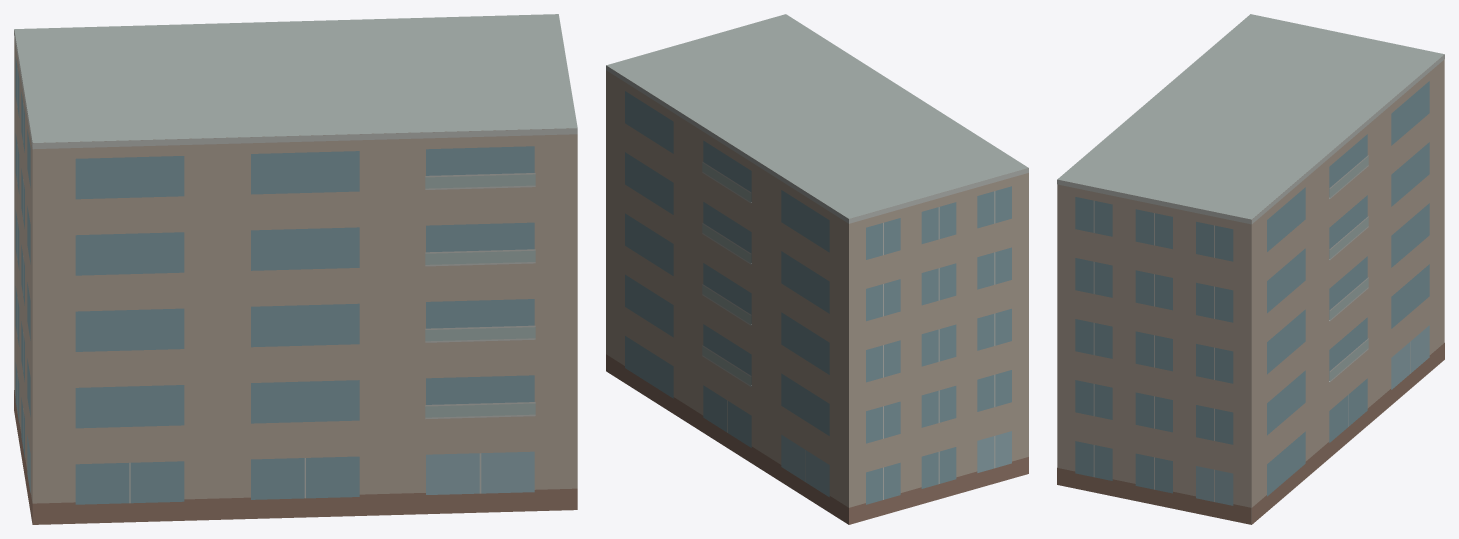
Rendered from survey-upis-32998926.glb.
3 renders of one model, left to right at view 1: azimuth 30°, elevation 25°; view 2: azimuth 150°, elevation 25°; view 3: azimuth 270°, elevation 25°, orthographic. The views are drawn at different scales.
Visible parts, largest first — view 1: survey-upis-32998926.tmp; view 2: survey-upis-32998926.tmp; view 3: survey-upis-32998926.tmp.
Boxes of the visible parts, x1,y1,x2,y2 form: survey-upis-32998926.tmp: [14, 14, 577, 524]; survey-upis-32998926.tmp: [606, 14, 1028, 524]; survey-upis-32998926.tmp: [1057, 14, 1444, 524].
Size of the model in its own units: 22.03 by 15.25 by 17.56.
